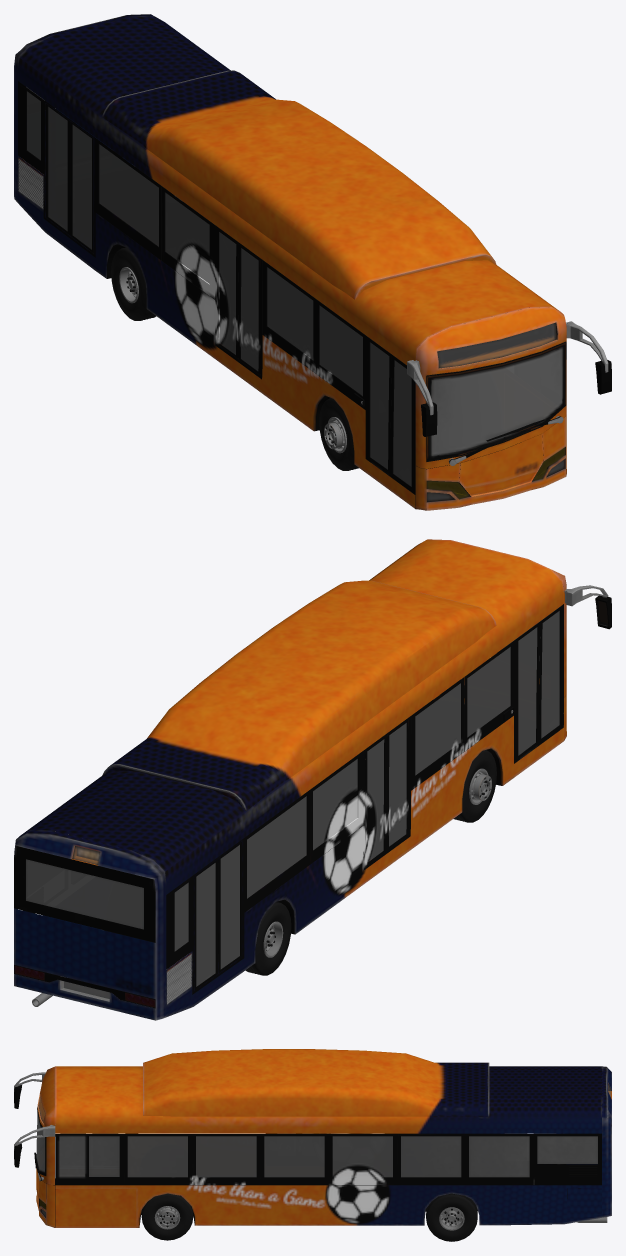
Rendered from citi_bus.glb.
The picture shows the model from 3 angles, top to bottom: view 1: azimuth 30°, elevation 25°; view 2: azimuth 150°, elevation 25°; view 3: azimuth 270°, elevation 25°; orthographic projection. The views are drawn at different scales.
Visible parts, largest first — view 1: citi_bus_body, city_bus_rear_wheel, city_bus_front_wheel; view 2: citi_bus_body, city_bus_rear_wheel, city_bus_front_wheel; view 3: citi_bus_body, city_bus_rear_wheel, city_bus_front_wheel.
Part boxes in pixels (left/top/right/bottom): citi_bus_body: left=14, top=14, right=611, bottom=510; city_bus_rear_wheel: left=111, top=247, right=156, bottom=320; city_bus_front_wheel: left=319, top=398, right=358, bottom=470; citi_bus_body: left=14, top=539, right=611, bottom=1020; city_bus_rear_wheel: left=245, top=902, right=291, bottom=975; city_bus_front_wheel: left=453, top=750, right=496, bottom=822; citi_bus_body: left=14, top=1049, right=611, bottom=1227; city_bus_rear_wheel: left=426, top=1193, right=477, bottom=1241; city_bus_front_wheel: left=141, top=1193, right=193, bottom=1240.
Size of the model in its own units: 3.07 by 3.42 by 12.36.
1 material, 1 textured.
